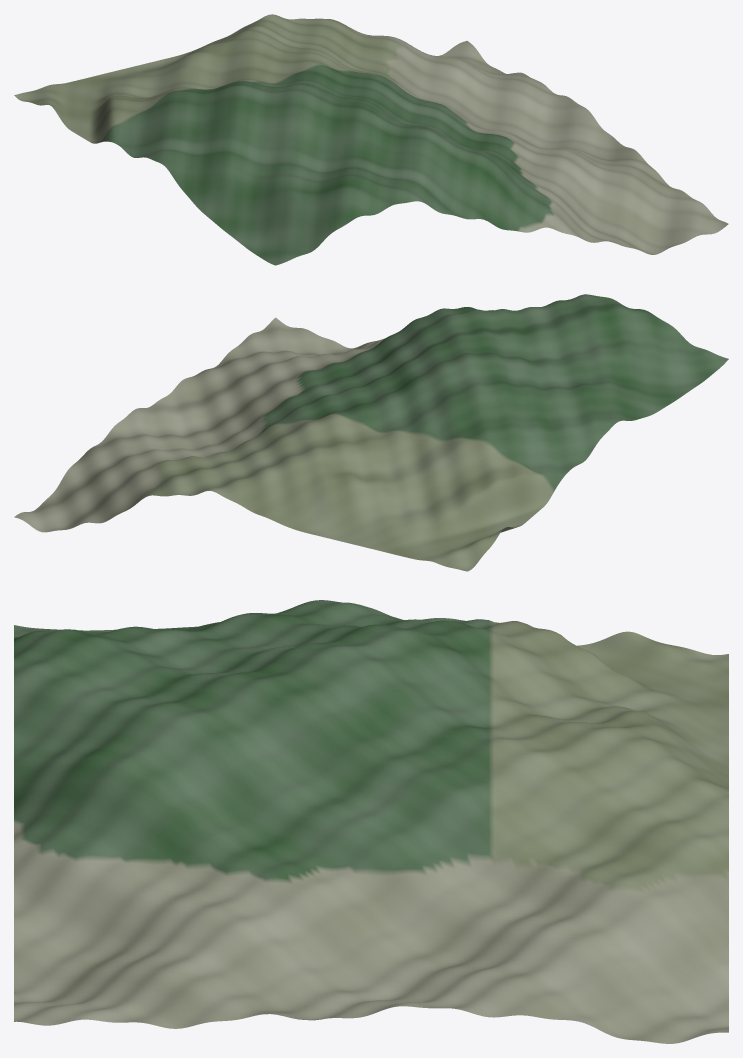
Rendered from terrain_3_1.glb.
The picture shows the model from 3 angles, top to bottom: view 1: azimuth 30°, elevation 25°; view 2: azimuth 150°, elevation 25°; view 3: azimuth 270°, elevation 25°; orthographic projection. The views are drawn at different scales.
Visible parts, largest first — view 1: terrain_3_1; view 2: terrain_3_1; view 3: terrain_3_1.
Boxes of the visible parts, left/top/right/bottom form: terrain_3_1: left=14, top=14, right=728, bottom=265; terrain_3_1: left=14, top=294, right=728, bottom=571; terrain_3_1: left=14, top=600, right=728, bottom=1043.
Size of the model in its own units: 512 by 149 by 512.
